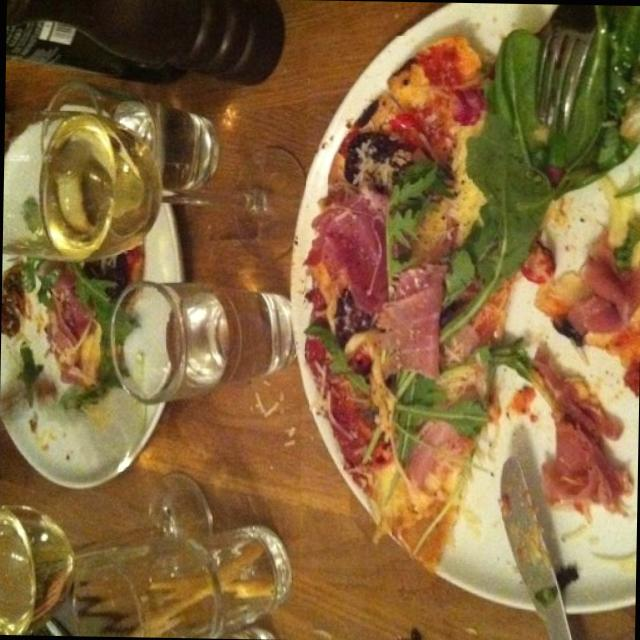pizza: (304, 37, 552, 568), (20, 250, 140, 414)
